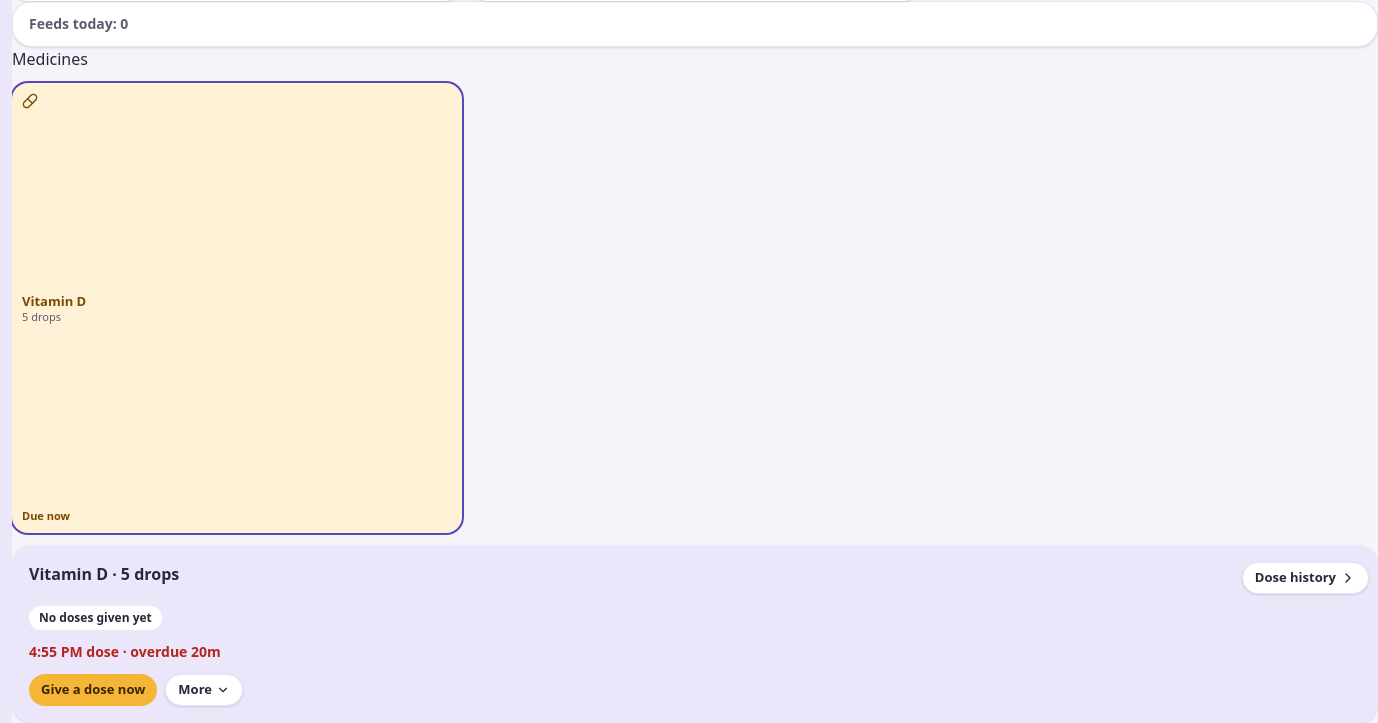
a 409 for a dose that is not due explains and refreshes
The width and height of the screenshot is (1378, 723).
(page scrolled)
Click the button "Give a dose now" at (93, 690), box [29, 674, 157, 706]
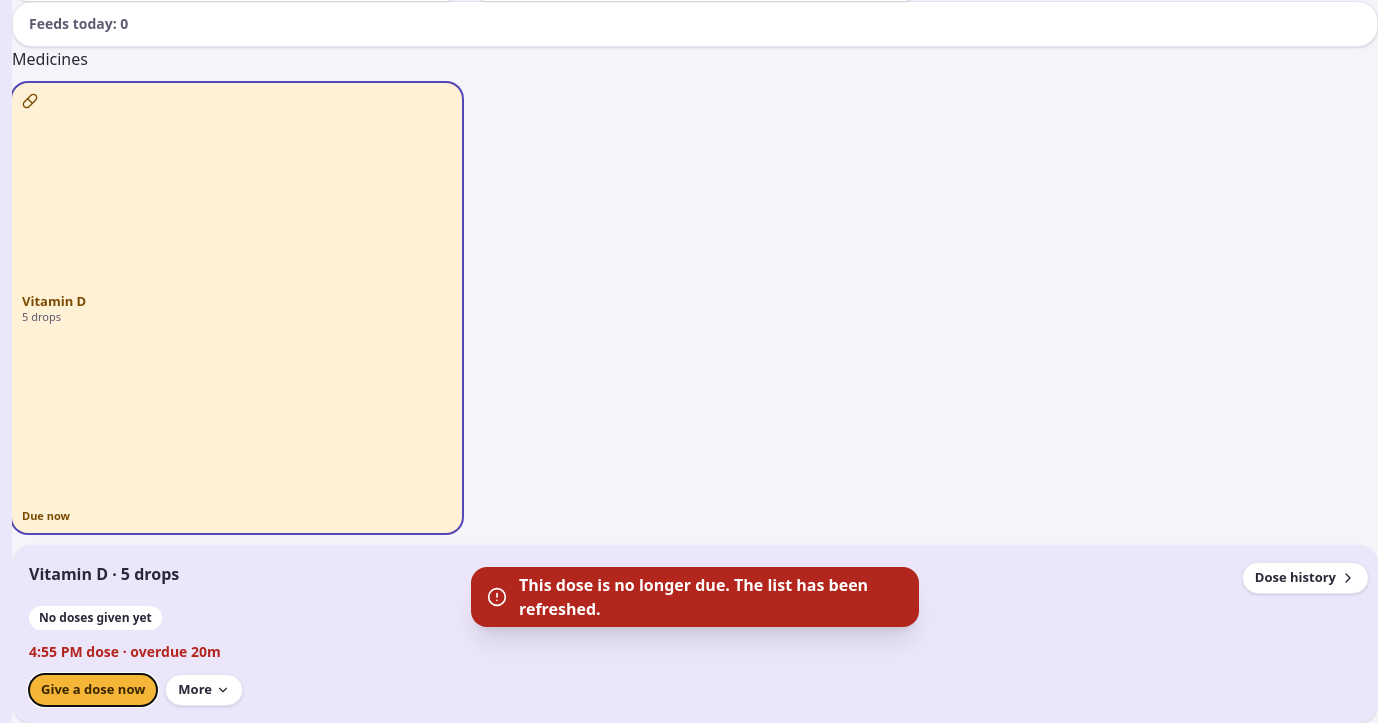
Expected: the text "This dose is no longer due. The list has been refreshed." is shown, [519, 573, 911, 621]
